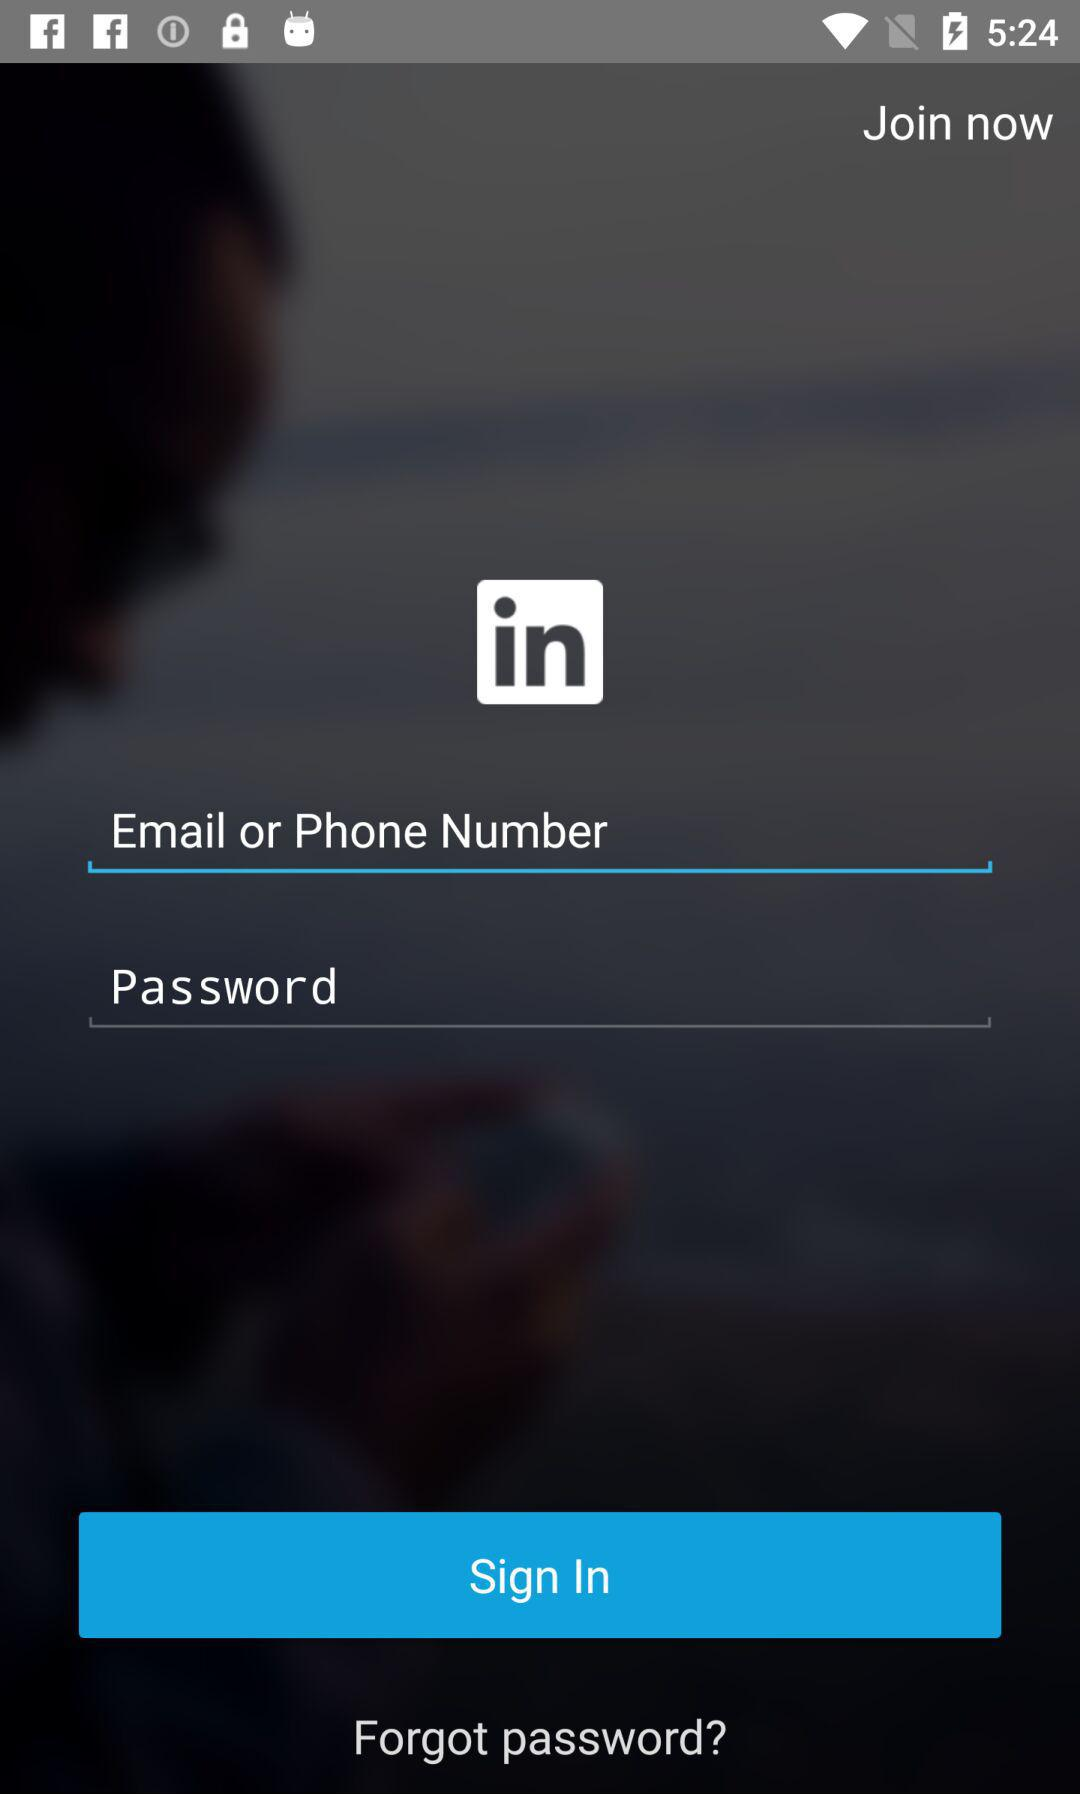BackgroundImage: (1, 65, 1080, 1794)
EditText: (88, 810, 994, 875), (88, 966, 993, 1030)
Image: (477, 579, 603, 706)
Text: (114, 810, 609, 850), (356, 1717, 726, 1765), (114, 967, 336, 1007), (862, 105, 1054, 144)
TextButton: (79, 1512, 1002, 1639)
UpperTaskBar: (1, 1, 1080, 64)
